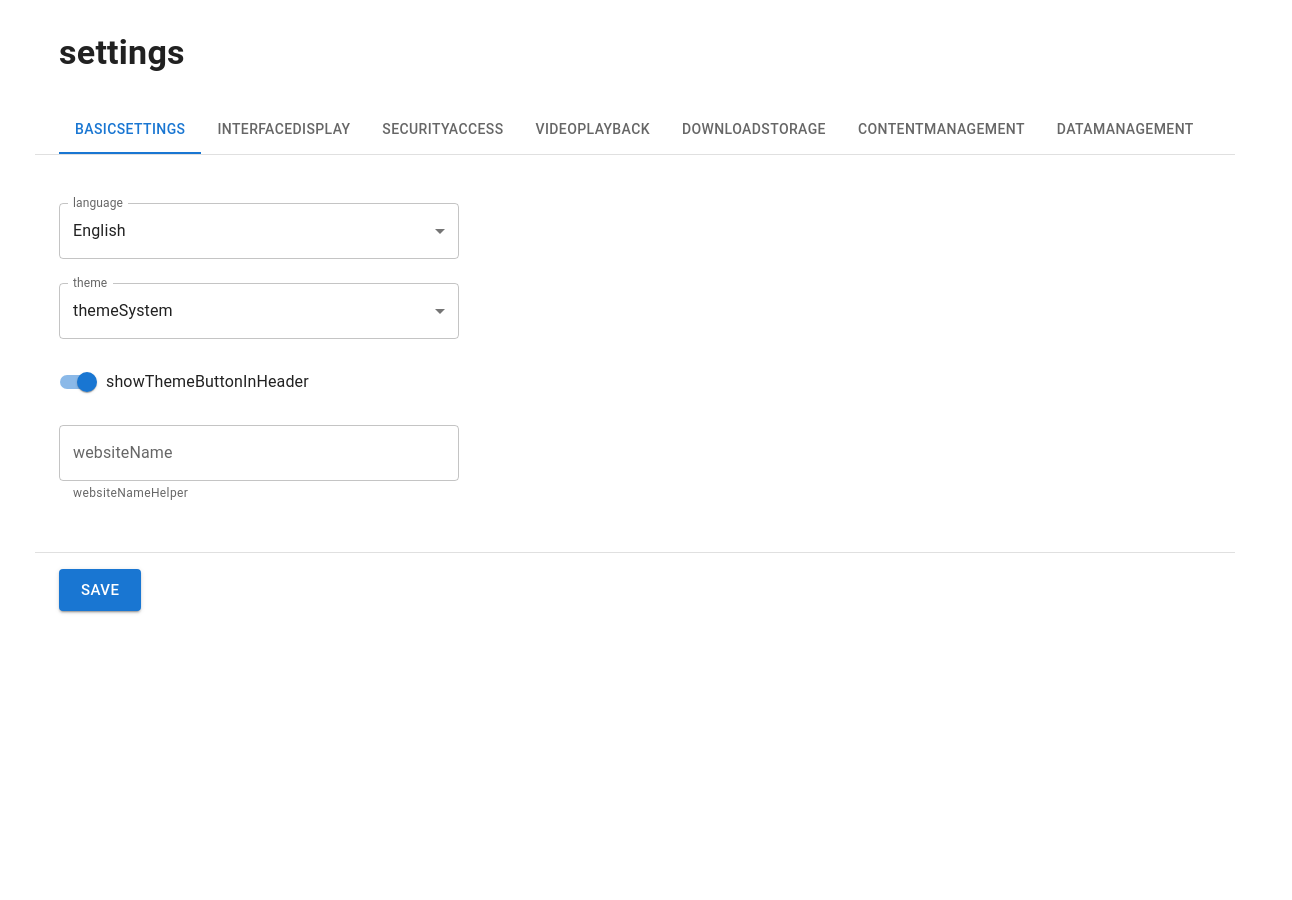
SettingsPage › shows TMDB credential test errors inline
Click the tab "contentManagement": (941, 130) [842, 106, 1041, 154]
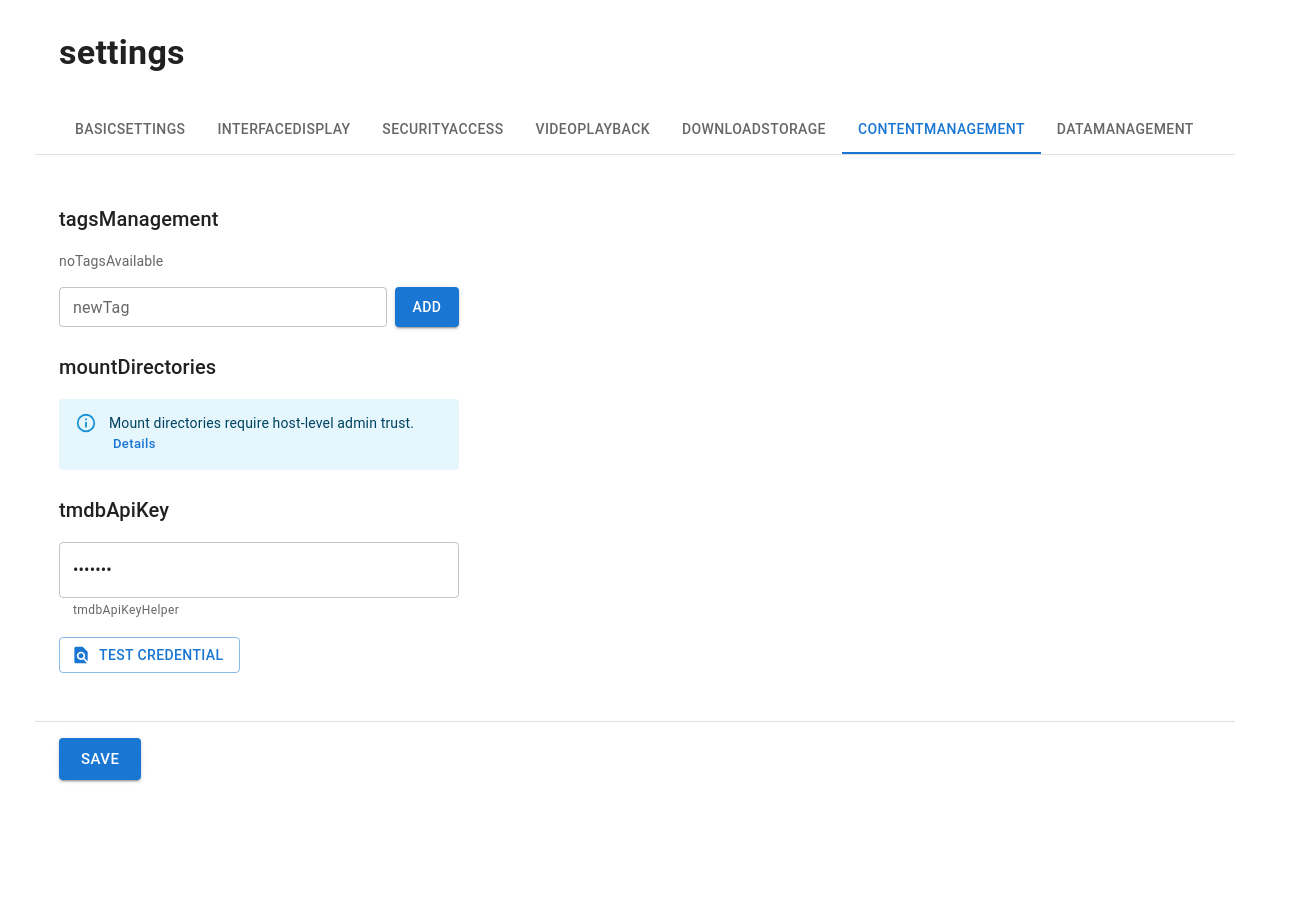
Click the button "Test Credential": (149, 655) [59, 637, 240, 673]
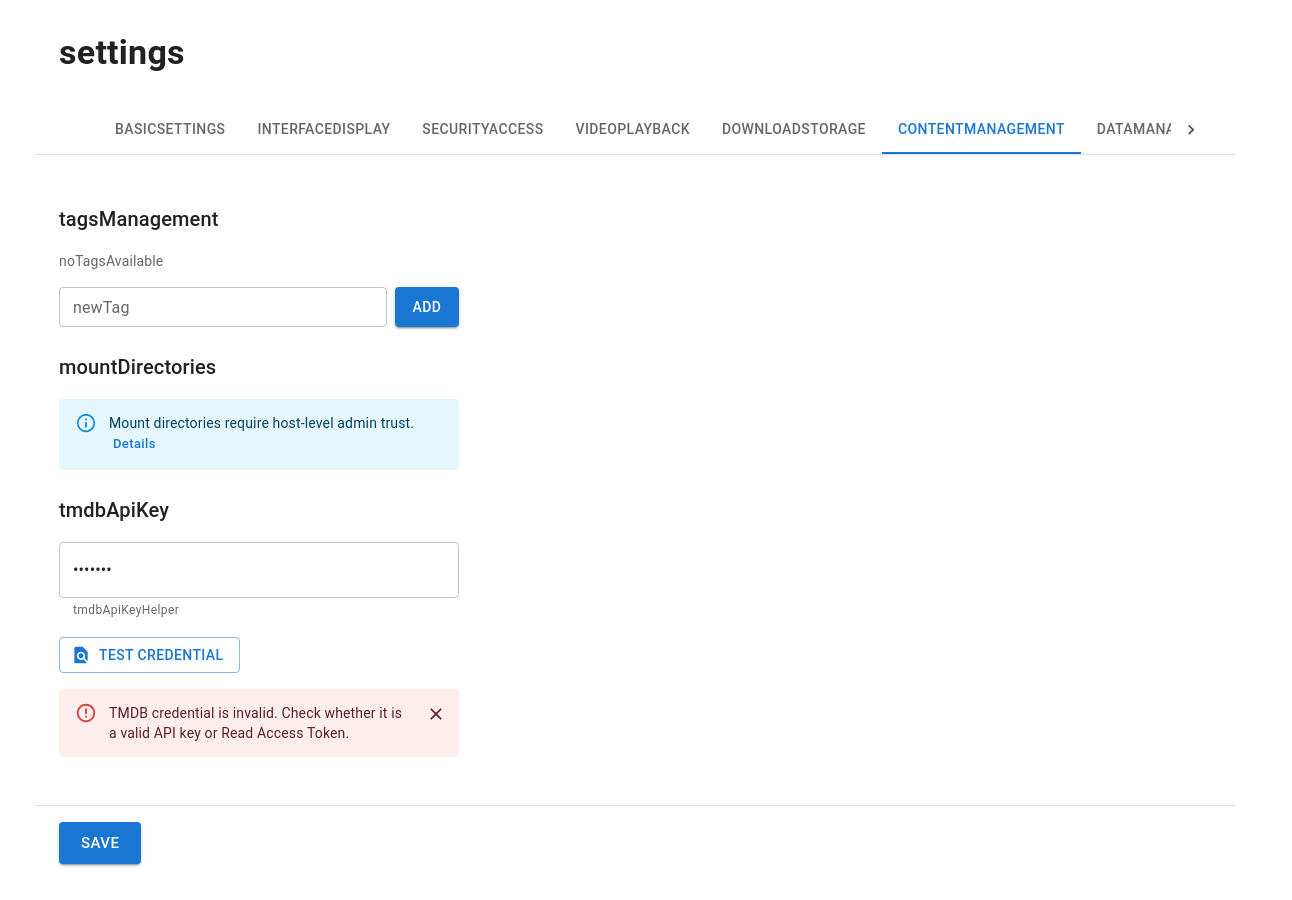
Result: the text "TMDB credential is invalid. Check whether it is a valid API key or Read Access Token." is shown at [109, 705, 402, 741]
